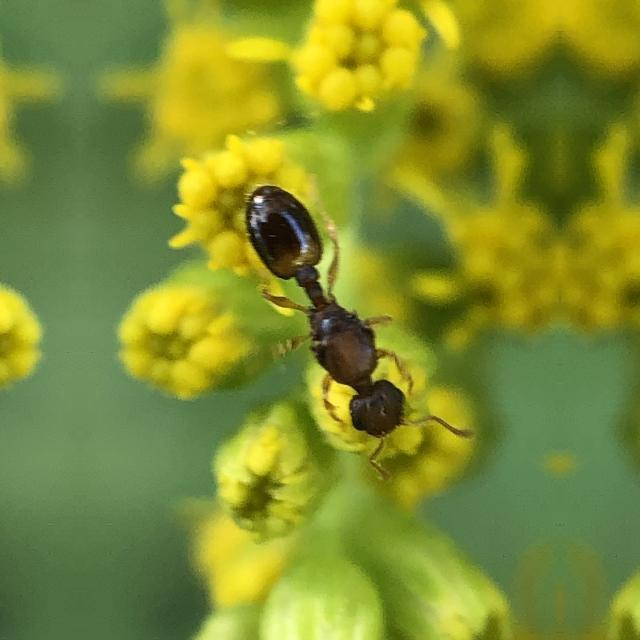Temnothorax: (220, 163, 466, 492)
